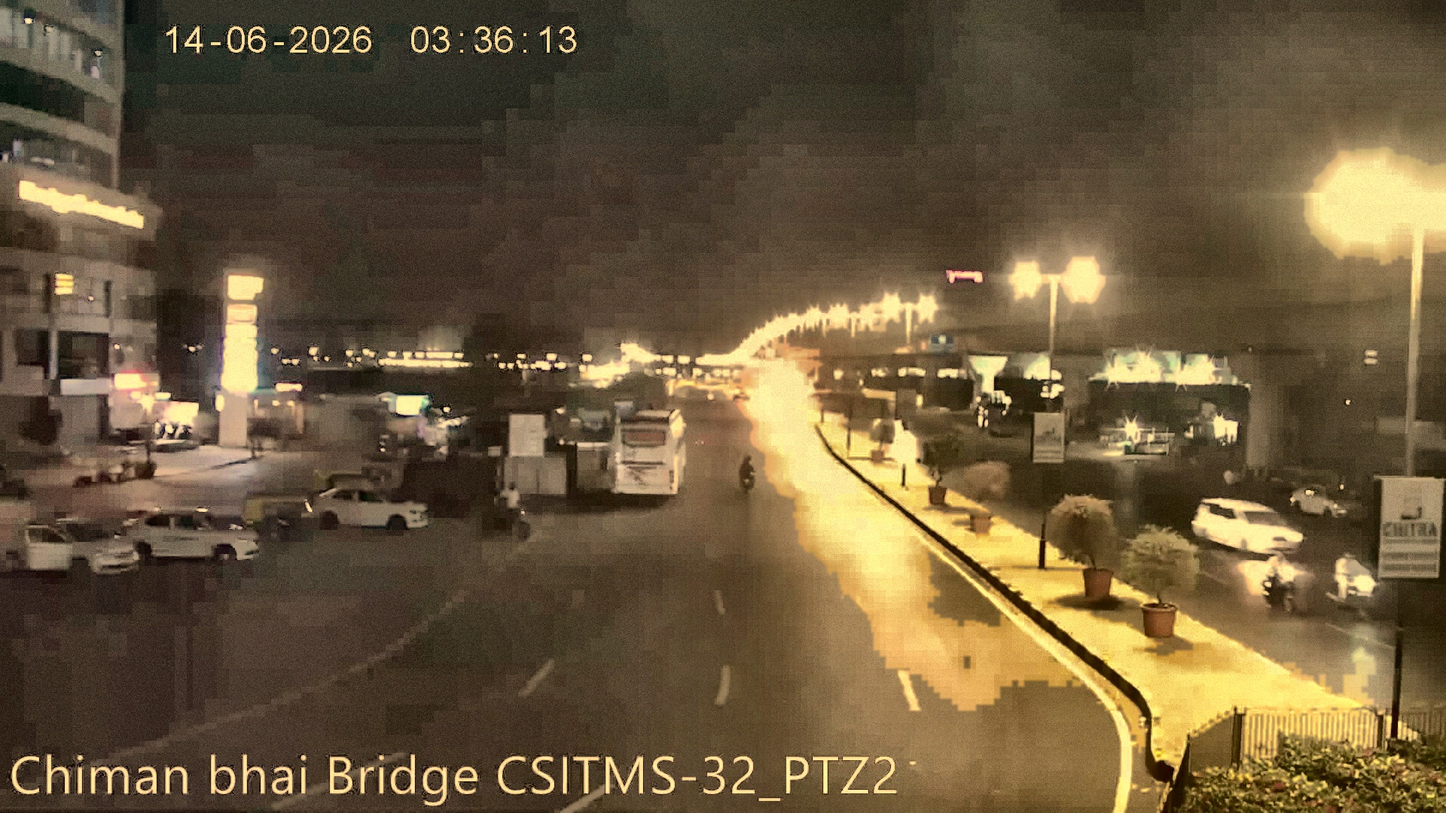car: (1187, 491, 1309, 558)
truck: (606, 401, 692, 500)
two_wheeler: (733, 445, 763, 501)
